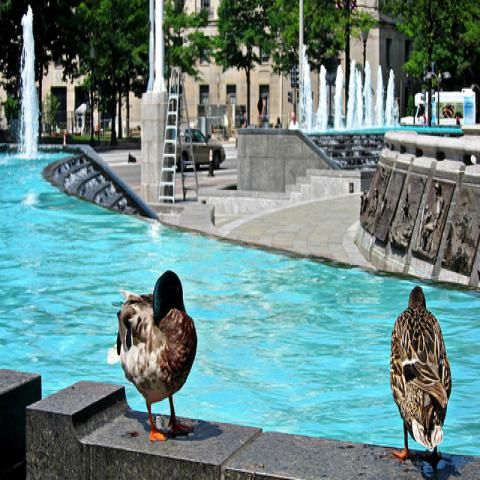car: (169, 127, 223, 175), (425, 72, 439, 84)
truck: (400, 88, 476, 125)
